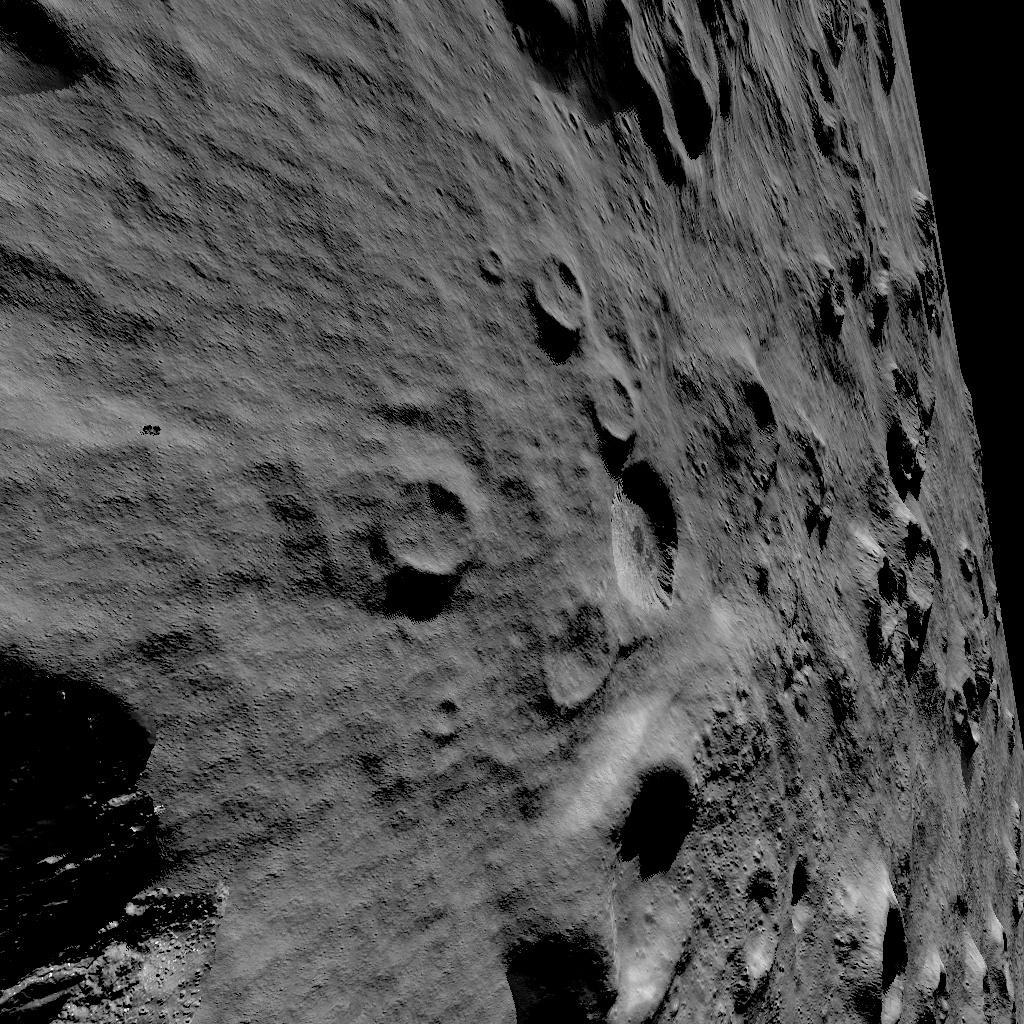Boulders: (0, 642, 223, 1024)
Crater: (524, 255, 680, 620), (521, 730, 708, 1024), (496, 0, 753, 188), (858, 518, 996, 742), (714, 370, 826, 550), (821, 202, 948, 356), (796, 0, 903, 175), (734, 830, 822, 1023), (851, 872, 955, 1024), (373, 470, 478, 585)
Plan surface: (213, 0, 483, 458), (238, 620, 506, 1024), (0, 318, 201, 630)
